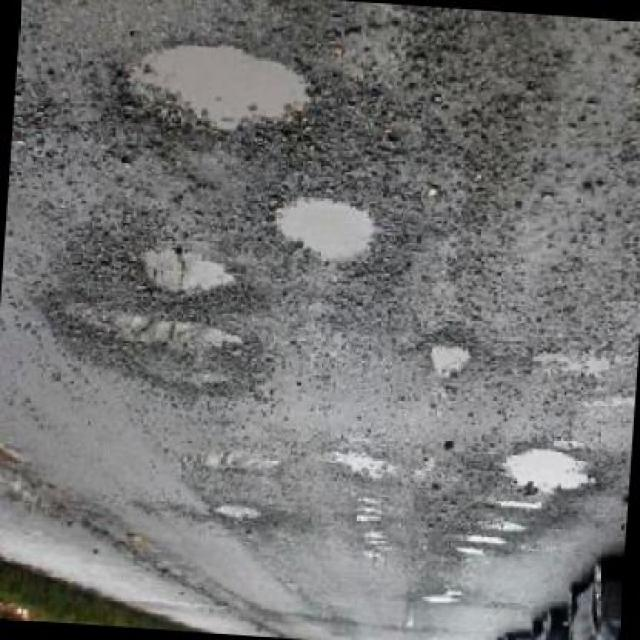pothole1: (108, 38, 320, 156), (47, 303, 264, 397), (260, 190, 382, 279), (115, 241, 243, 314), (496, 445, 601, 504), (422, 342, 475, 382), (207, 502, 262, 526), (420, 588, 463, 612), (462, 535, 509, 554), (479, 524, 526, 538)
